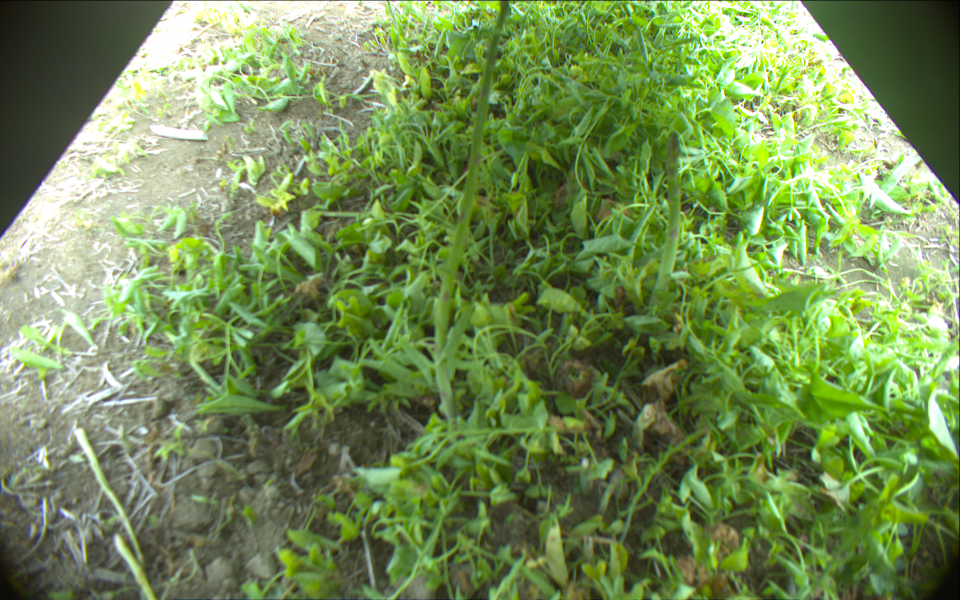aspa: (434, 1, 510, 421), (75, 429, 146, 566), (648, 132, 681, 313), (113, 536, 157, 600)
